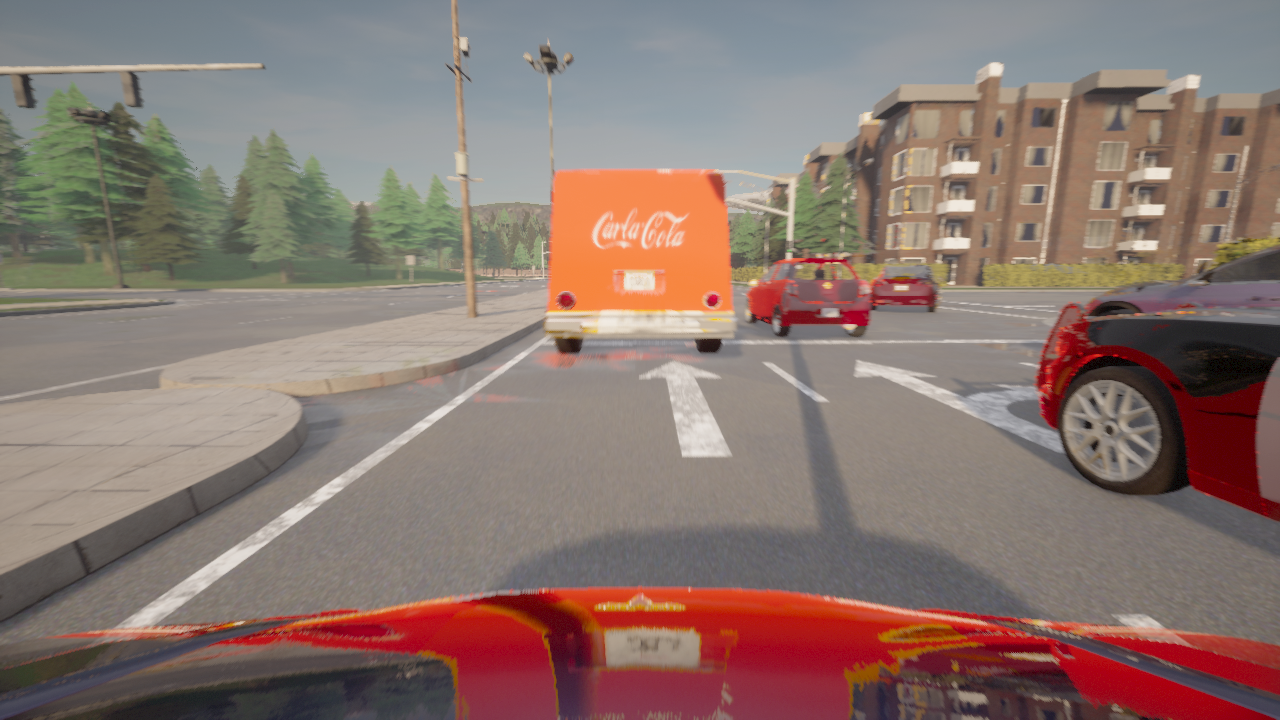cyclist: (0, 588, 1279, 719), (1035, 302, 1279, 521), (544, 169, 737, 352), (1085, 245, 1279, 316), (745, 258, 870, 336), (869, 265, 943, 312)
